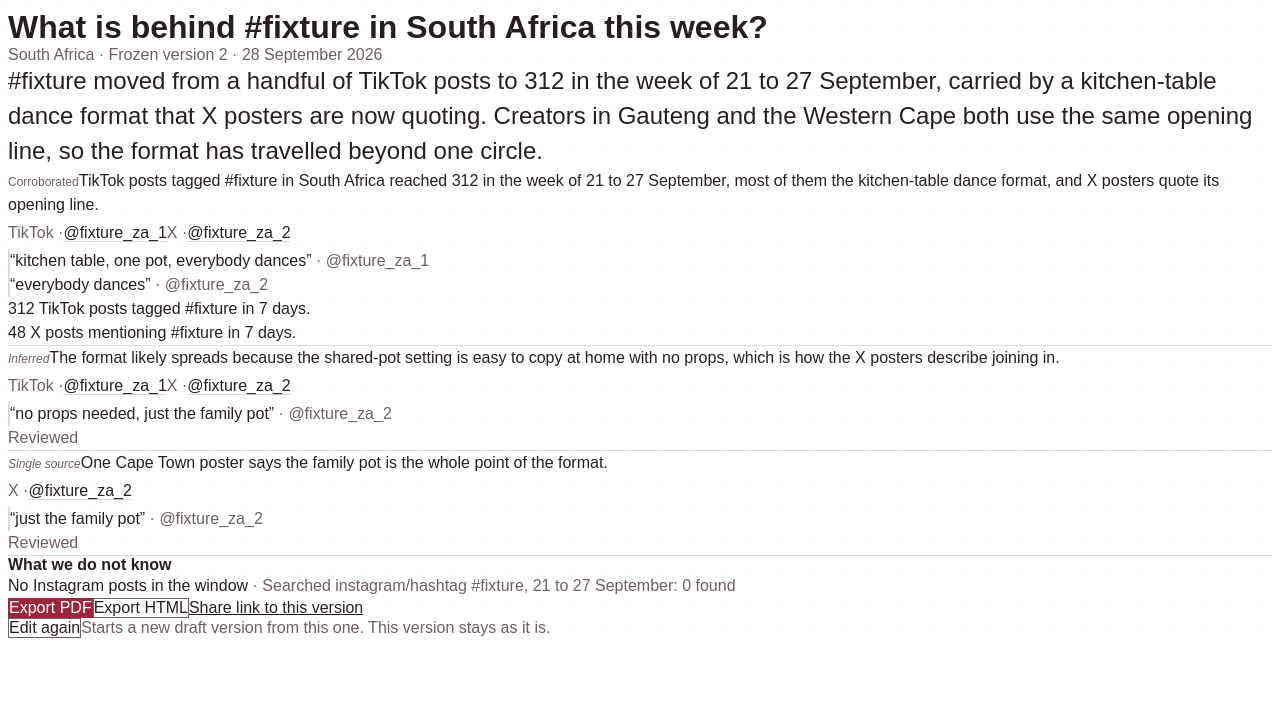
Scenario: a frozen version offers Edit again, which starts a new draft version through the edit route and never writes to the frozen one
Check: the number of buttons with class "dossiers42-primary" is 1, box [8,598,93,618]
Click the button "Edit again". click: (45, 628)
box: [8,618,81,638]
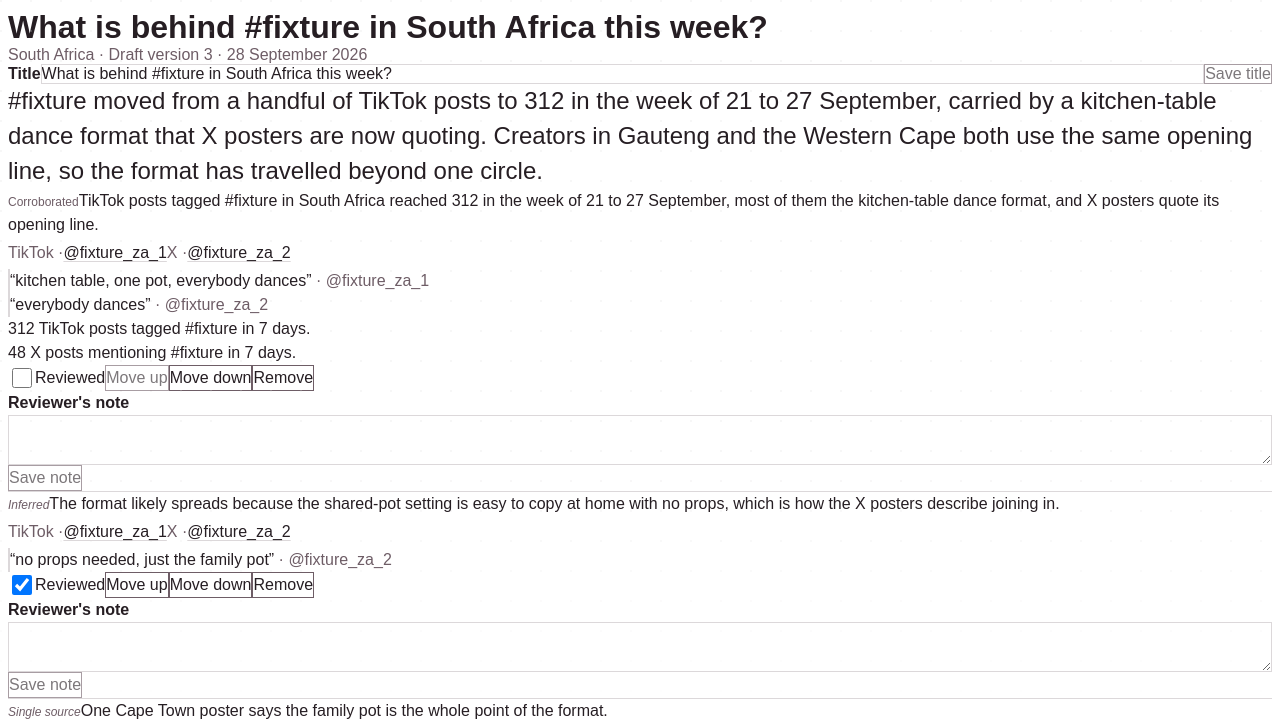
Check: the heading "What is behind #fixture in South Africa this week?" is shown, box [8,9,768,45]
Check: the text "Draft version 3" is shown, box [8,46,367,63]
